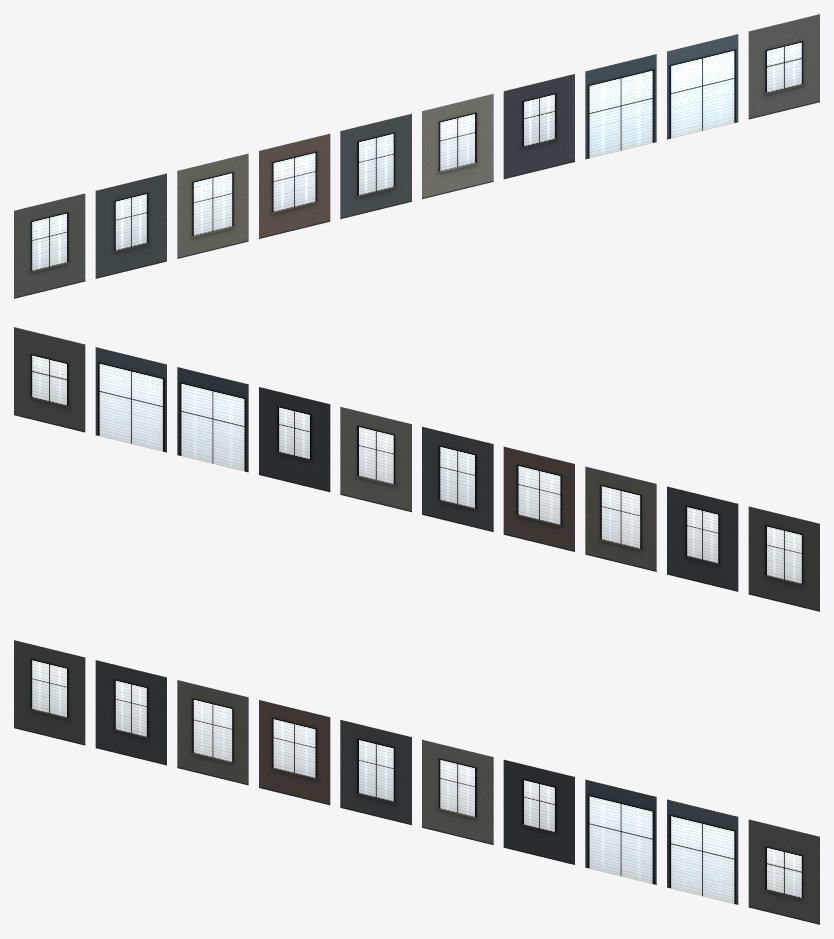
File: city-facades.glb
3 renders of one model, top to bottom at view 1: azimuth 30°, elevation 25°; view 2: azimuth 150°, elevation 25°; view 3: azimuth 330°, elevation 25°, orthographic.
Visible parts, largest first — view 1: city-facades; view 2: city-facades; view 3: city-facades.
Part boxes in pixels (<box>): city-facades: <box>14,14,819,298</box>; city-facades: <box>14,327,819,611</box>; city-facades: <box>14,640,819,924</box>.
Size of the model in its own units: 31.6 by 3.3 by 2.49e-07.
10 materials, 10 textured.
